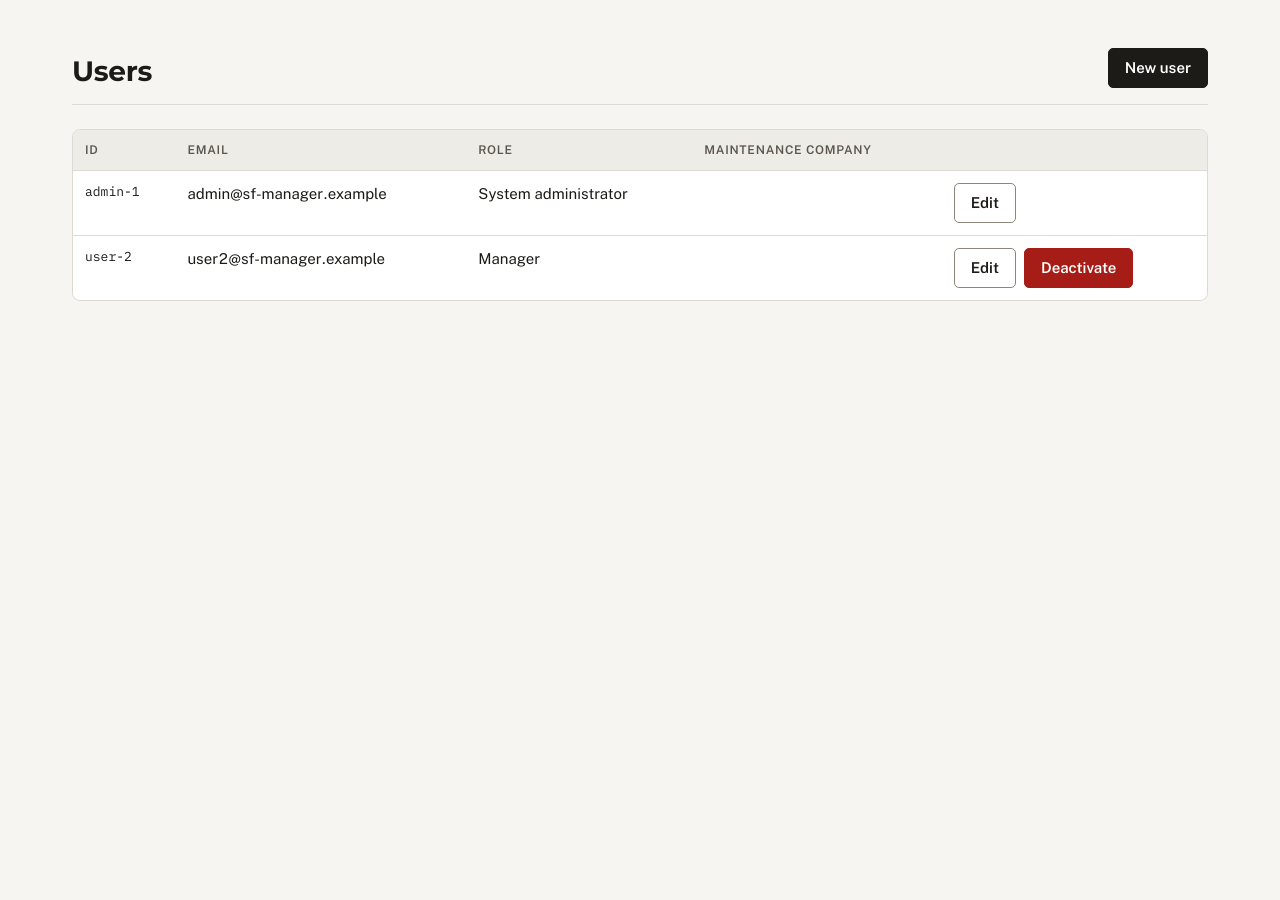
Test: UsersListPage › shows a cause-specific message (mapped via error-messages, not English server prose) when deactivation fails
Click the button "Deactivate" at (1079, 268), box [1024, 248, 1133, 288]
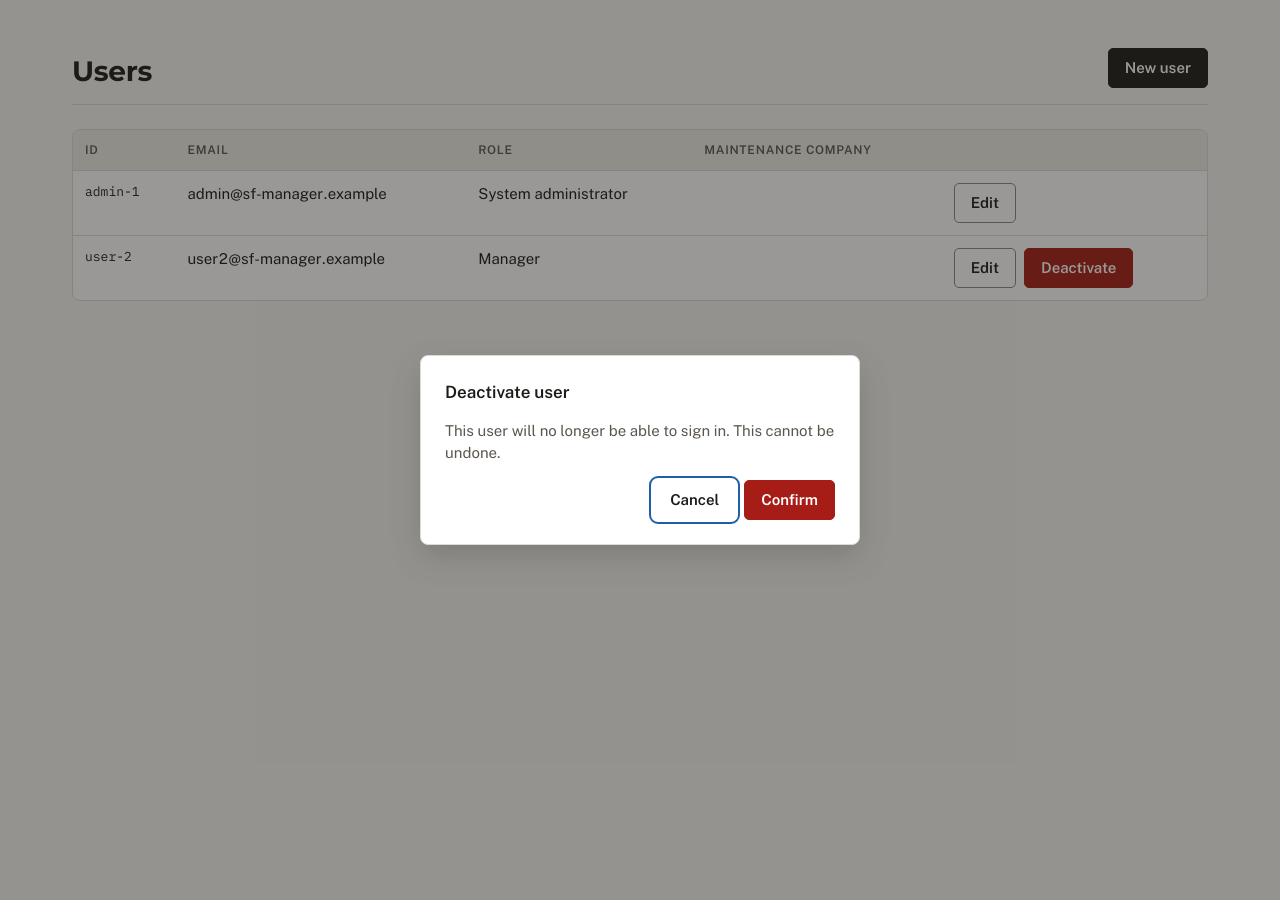
Click the button with test id "confirm-dialog-confirm" at (790, 500), box [744, 480, 835, 520]
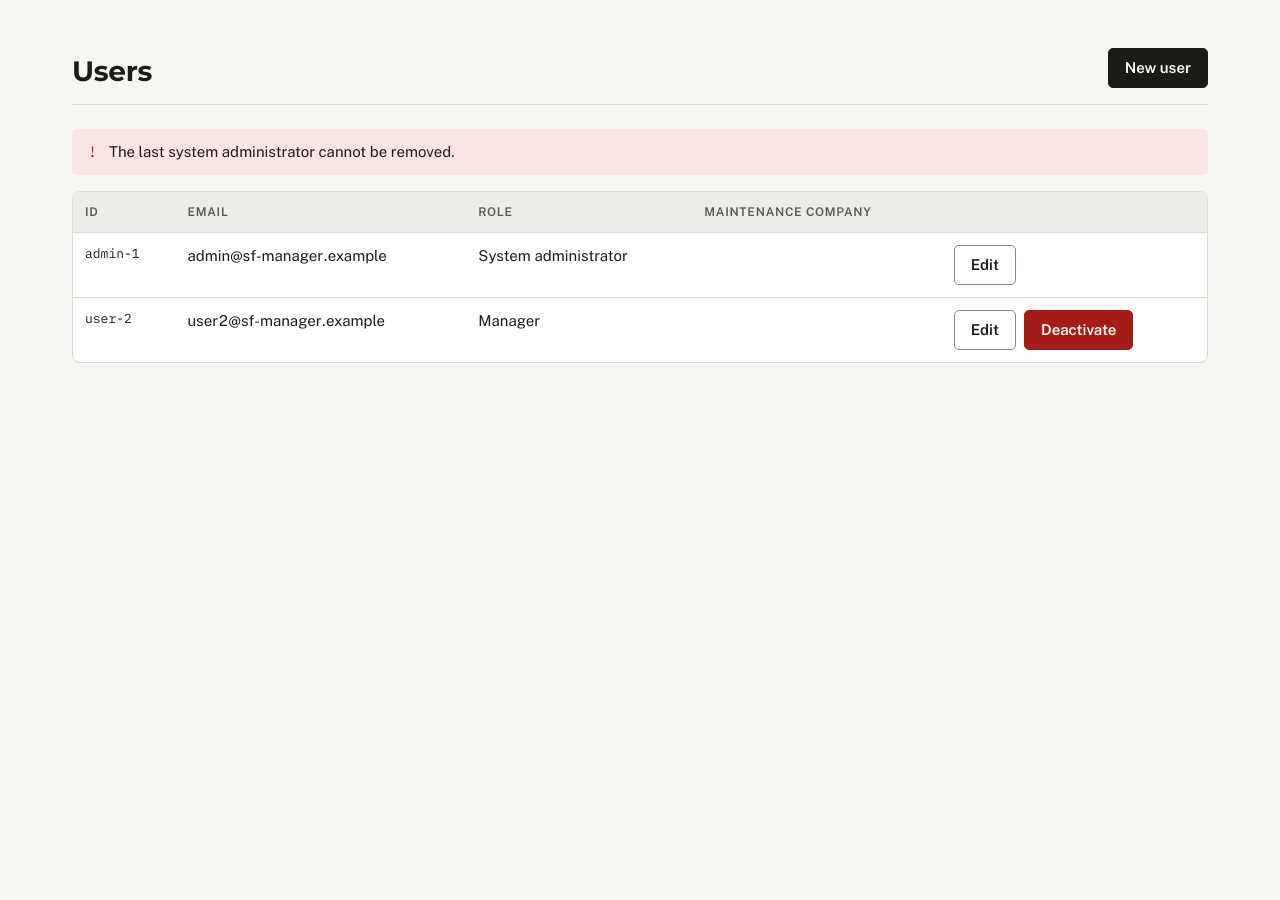
Now the message with test id "users-list-action-error" shows "The last system administrator cannot be removed.", box [109, 143, 455, 160]
